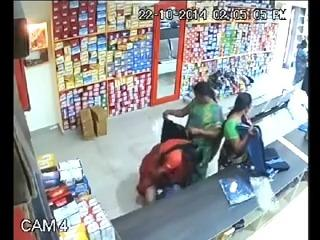shoplifting: (136, 137, 204, 203)
